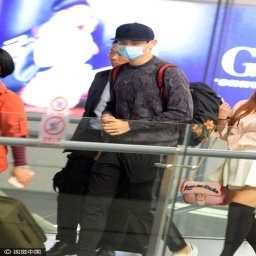correctlyWear: (114, 34, 156, 61)
noWear: (108, 46, 129, 67)
